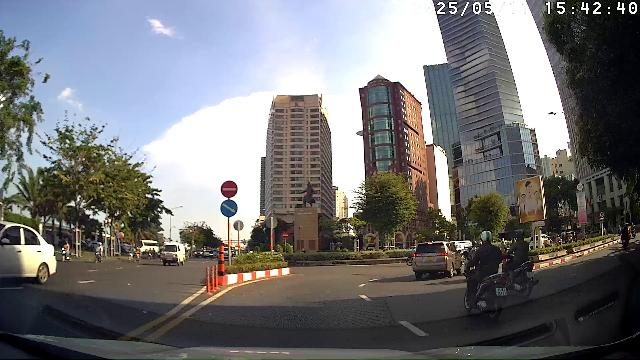102-cam-di-nguoc-chieu: (220, 180, 238, 198)
302a-huong-phai-di-vong-chuong-ngai-vat-1: (220, 199, 238, 217)
